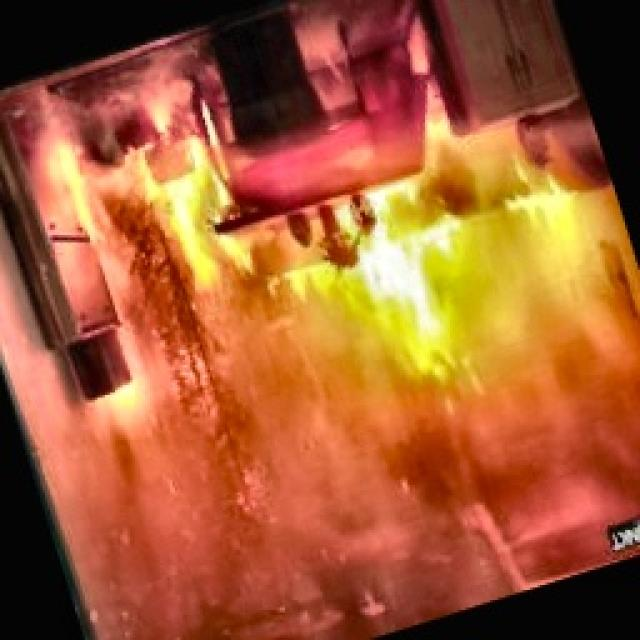fire: (155, 82, 640, 520)
